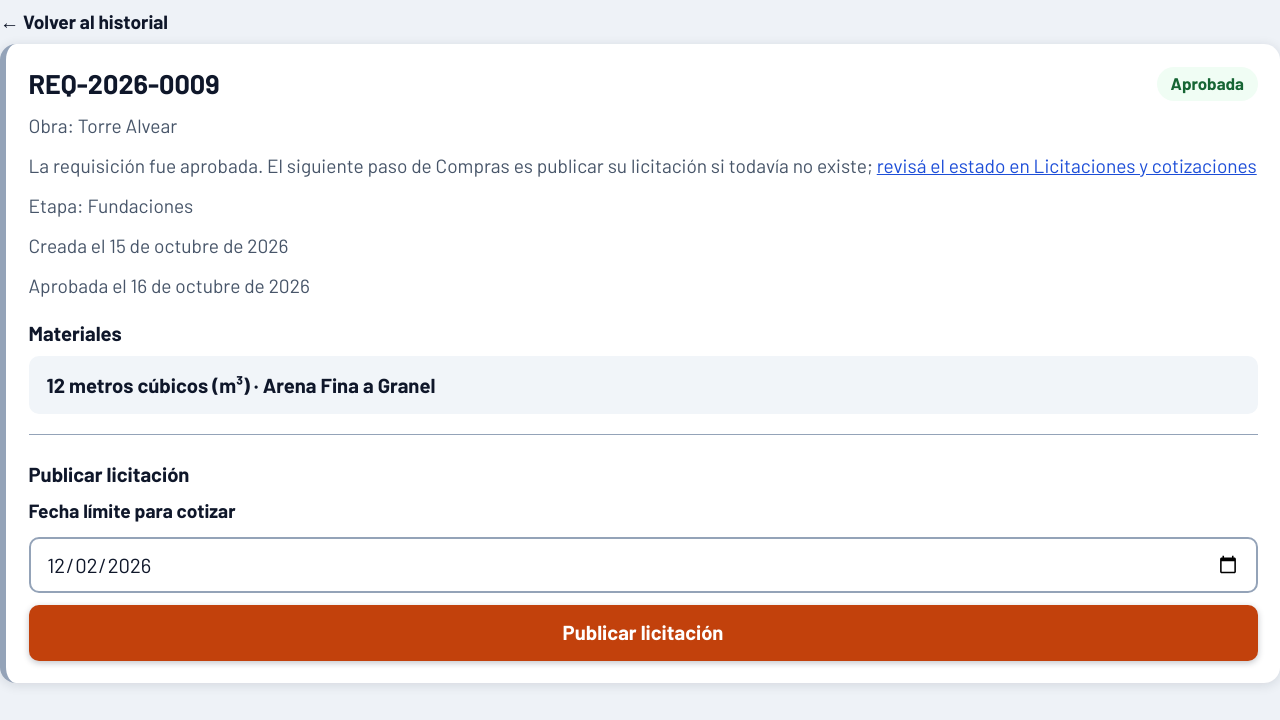
Test: DetalleRequisicionPage › publicar licitación › el Comprador ve el botón en una requisición aprobada y la publica
The width and height of the screenshot is (1280, 720).
Click the button "Publicar licitación": (643, 633) 28,605 -> 1258,661
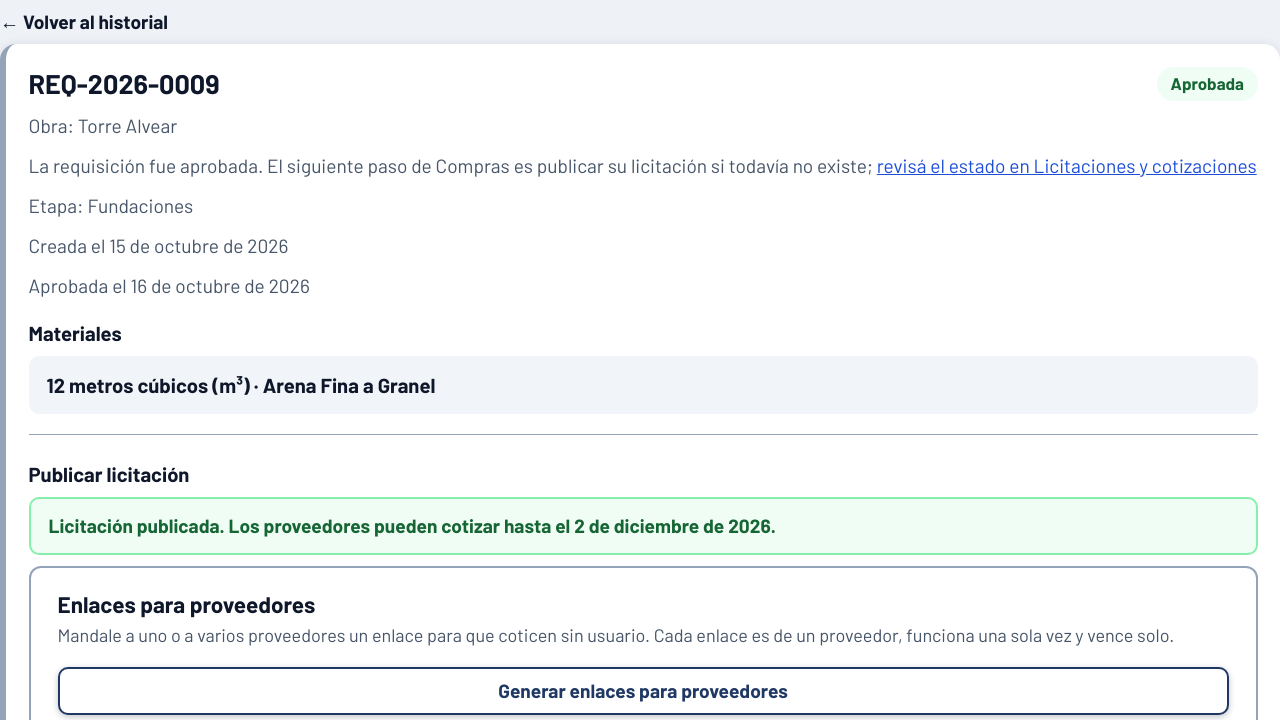
Expected: the message shows "Licitación publicada.", 48,514 -> 570,537
